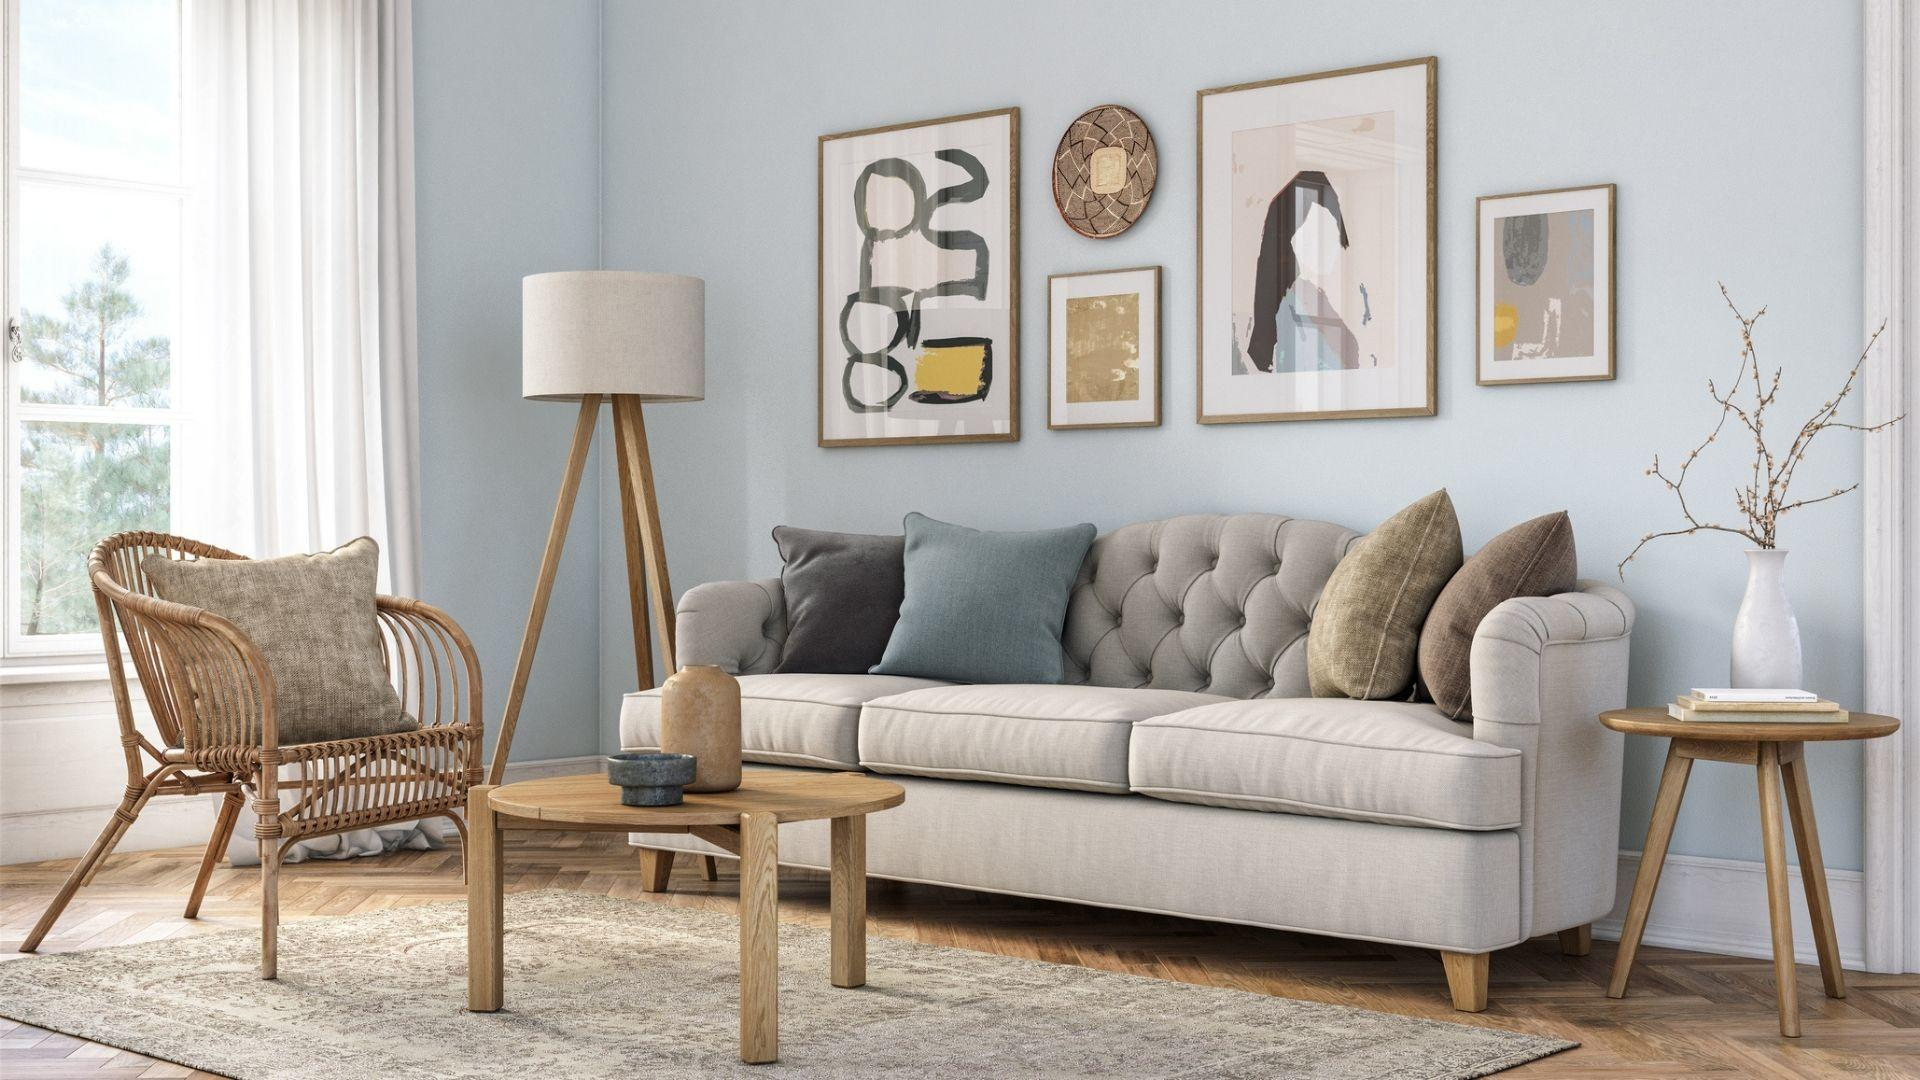chair: (18, 527, 491, 985)
floor lamp: (481, 266, 723, 895)
flower vase: (1630, 256, 1907, 690)
side table: (1598, 704, 1898, 1046)
sofa: (611, 491, 1640, 1021)
table: (456, 756, 913, 1036)
wall art: (1189, 54, 1445, 427), (810, 103, 1025, 452), (1470, 175, 1618, 390), (1040, 261, 1163, 436), (1043, 96, 1163, 241)
